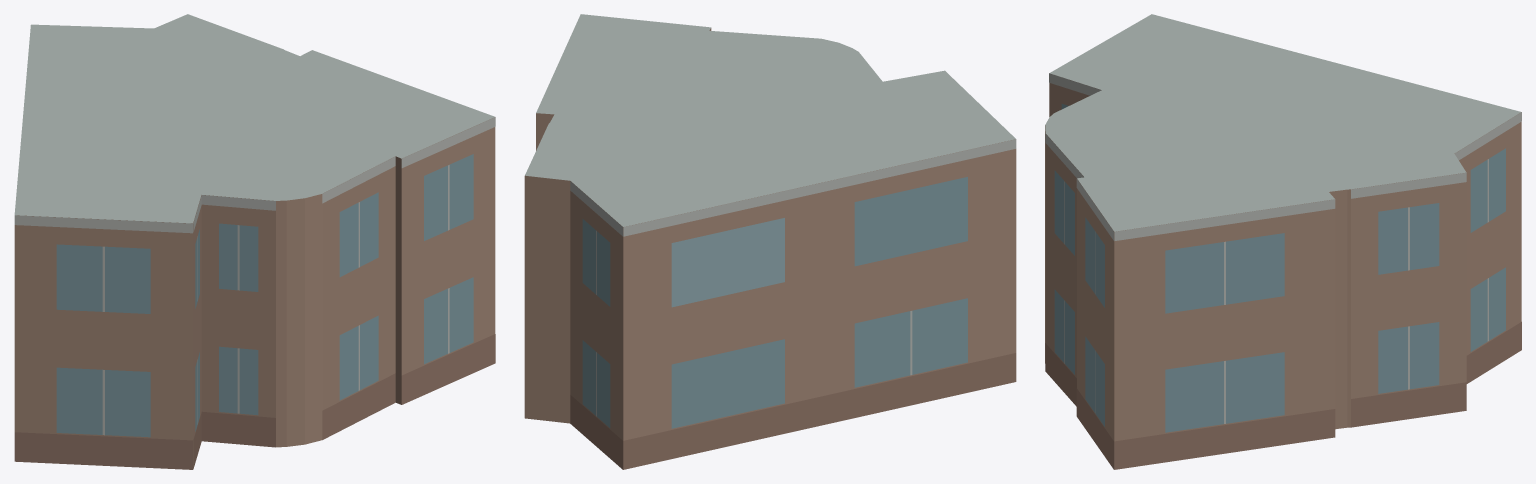
Rendered from survey-upis-32752337.glb.
3 views of the same model, side by side, from view 1: azimuth 30°, elevation 25°; view 2: azimuth 150°, elevation 25°; view 3: azimuth 270°, elevation 25° (orthographic). The views are drawn at different scales.
Visible parts, largest first — view 1: survey-upis-32752337.tmp; view 2: survey-upis-32752337.tmp; view 3: survey-upis-32752337.tmp.
Boxes of the visible parts, x1,y1,x2,y2 form: survey-upis-32752337.tmp: [14, 14, 495, 469]; survey-upis-32752337.tmp: [524, 14, 1016, 469]; survey-upis-32752337.tmp: [1045, 14, 1521, 469].
Size of the model in its own units: 11.97 by 6.1 by 11.07.
